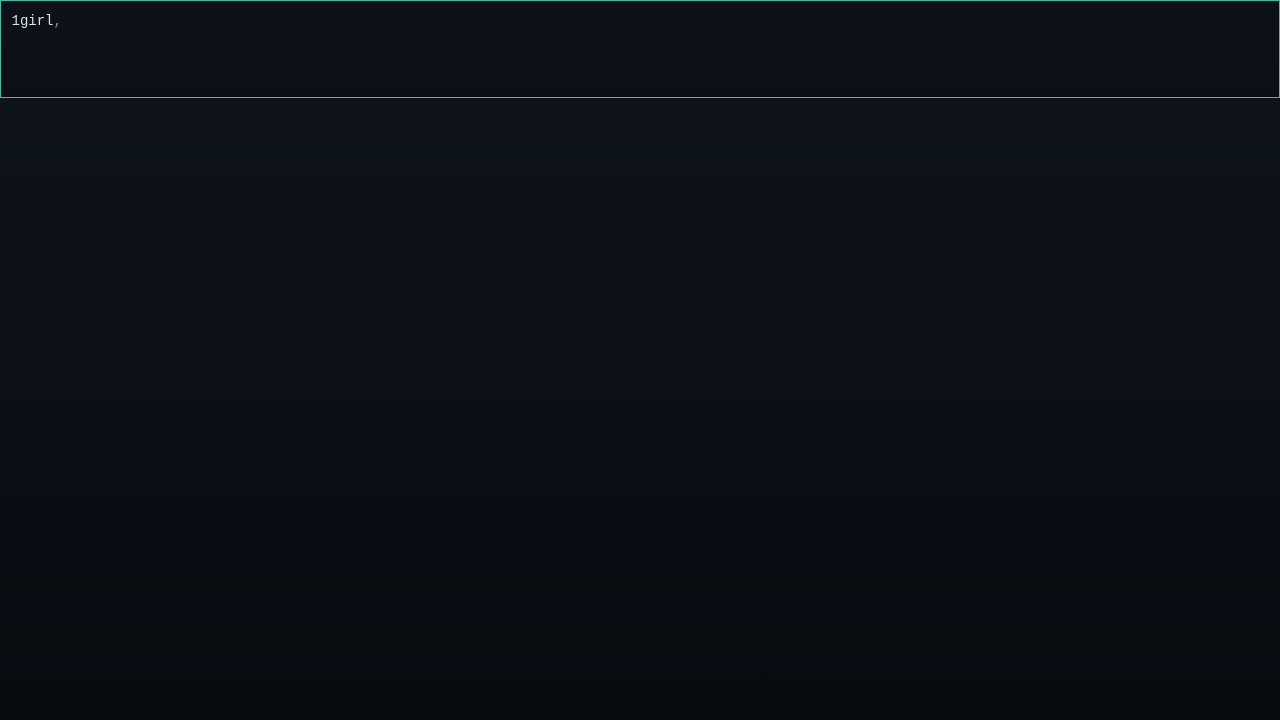
Test case: NaiPromptEditor completion interactions › inserts a selected library chunk at the caret
Step 1. Type keys "{Alt>}c{/Alt}"
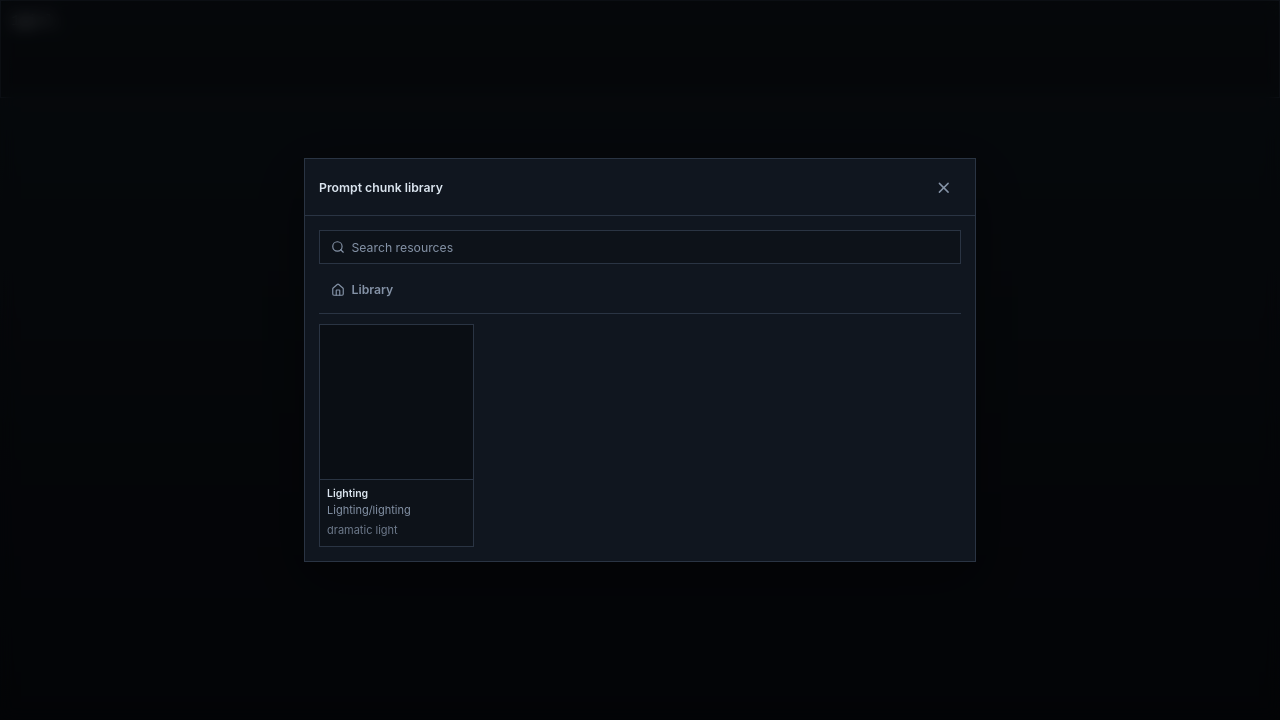
Step 2. Click the button "Lighting Lighting/lighting dramatic light" → [397, 436], box [319, 324, 474, 547]
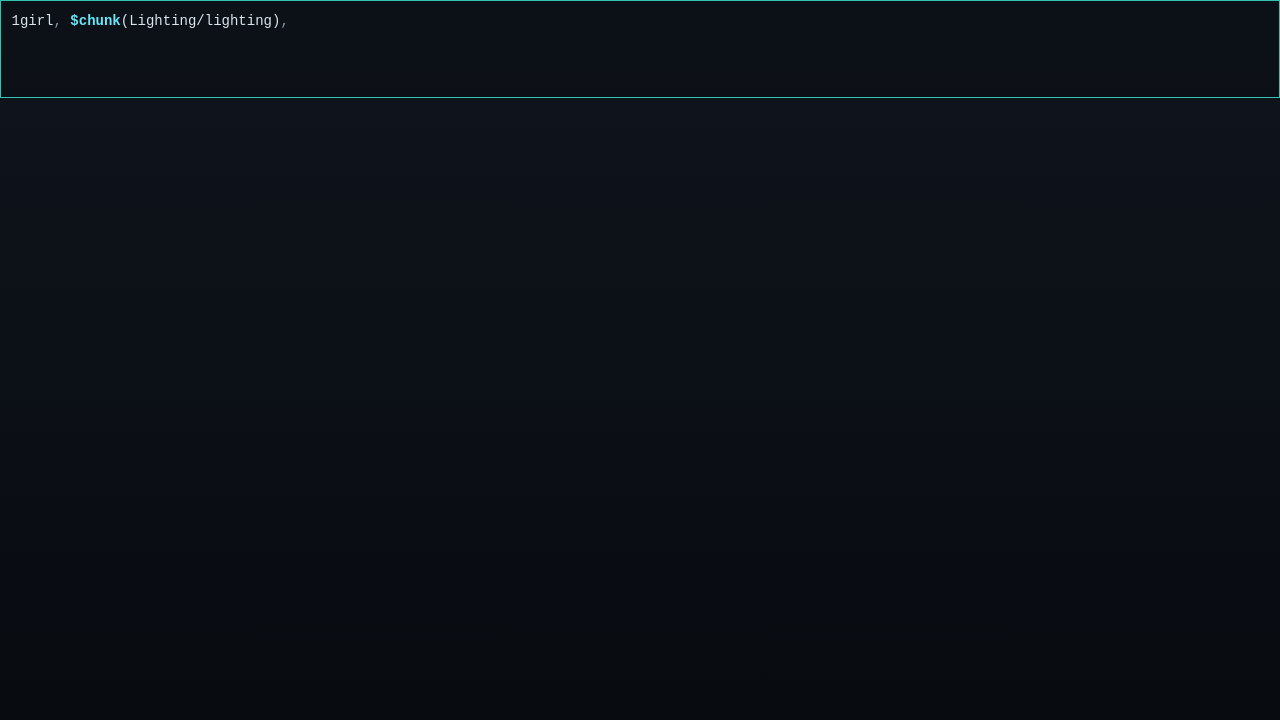
Expected: the text box labelled "1girl, $chunk(Lighting/lighting)," is shown, [12, 12, 289, 28]
Expected: the heading "Prompt chunk library" is gone
